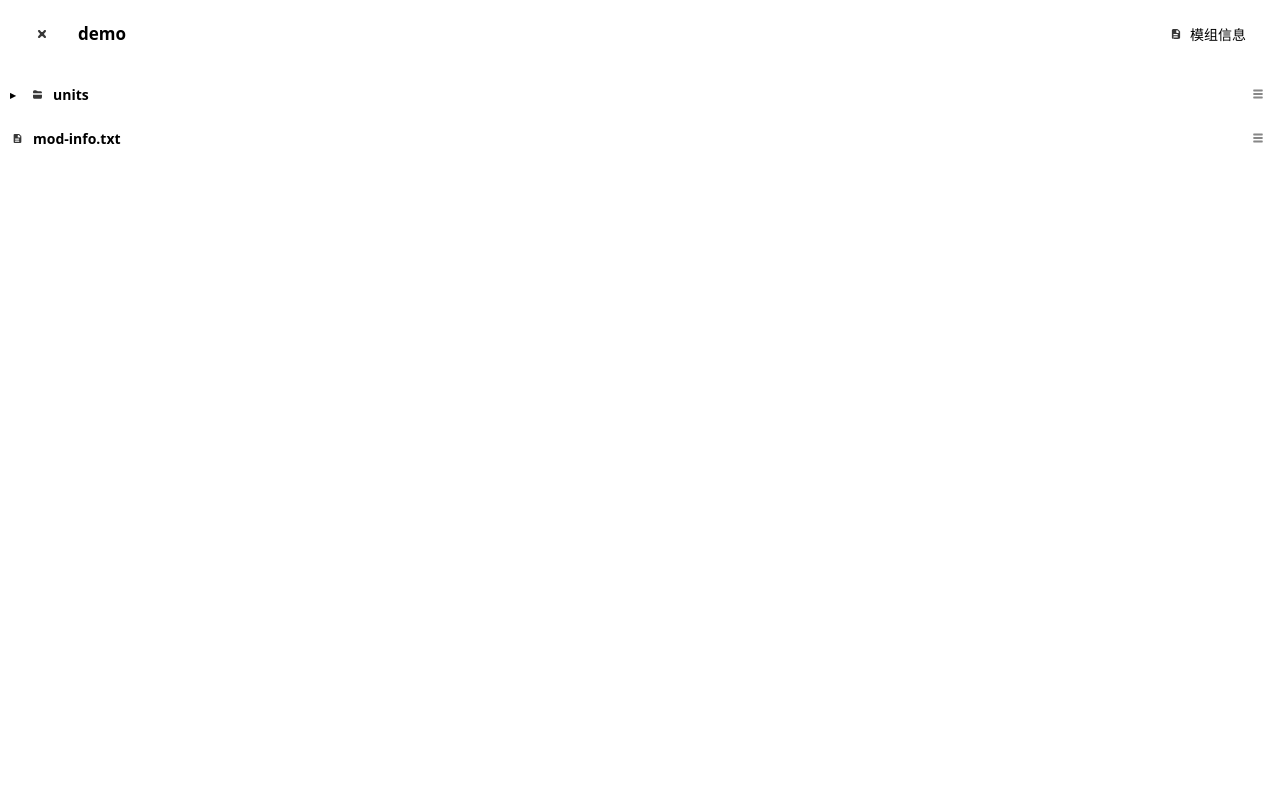
编辑器页：保存失败与冲突 › 保存失败时「保存并继续」不会退出编辑器
The image size is (1280, 800).
Click the text "units" at (71, 94), box x1=53 y1=84 x2=89 y2=104
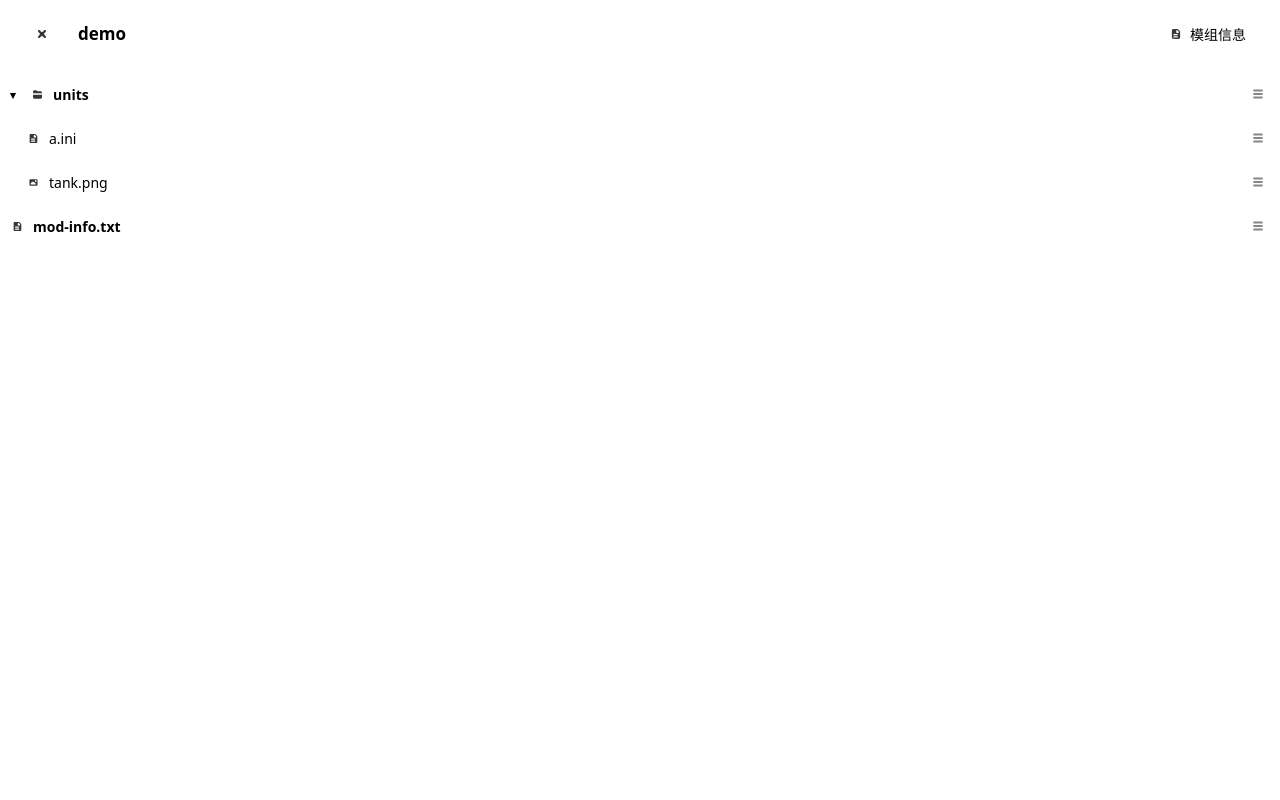
Click the button "a.ini" at (34, 138), box x1=0 y1=118 x2=1236 y2=158
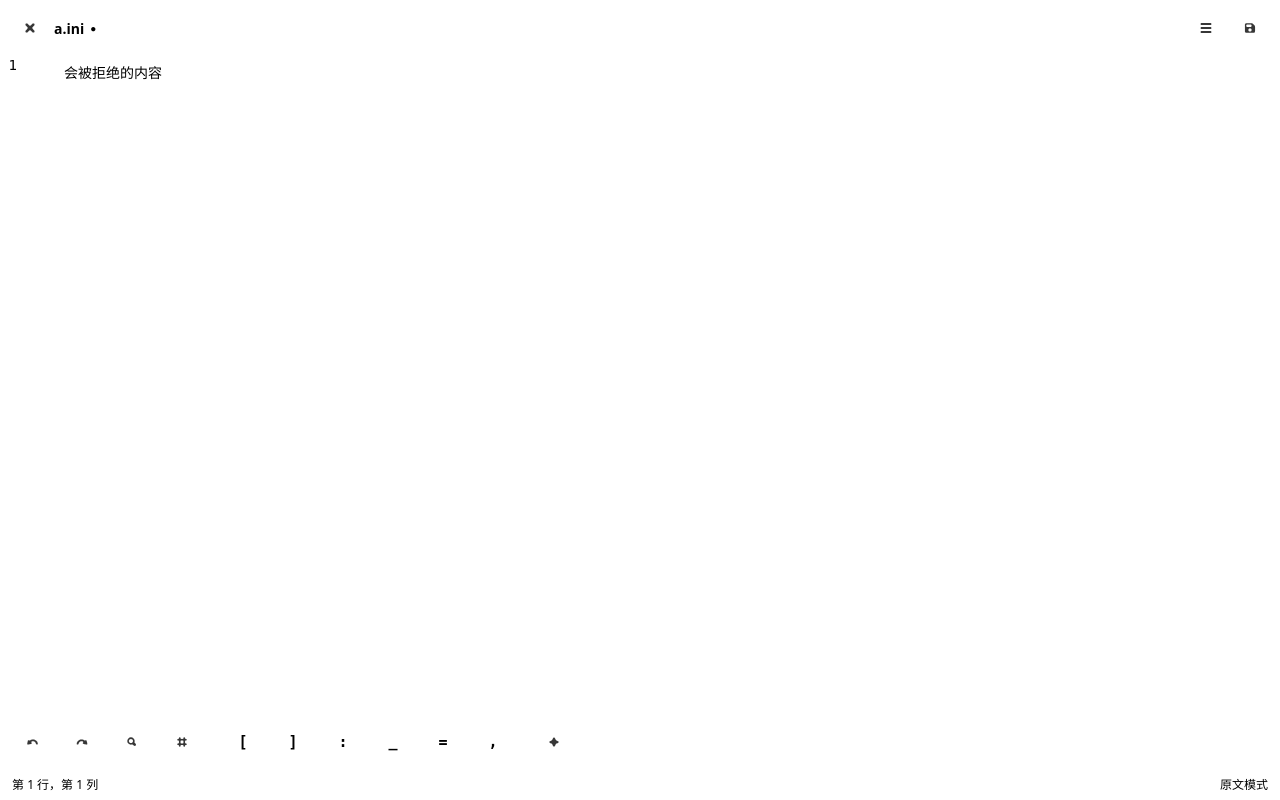
Click the button named "返回" at (30, 28), box x1=10 y1=8 x2=50 y2=48
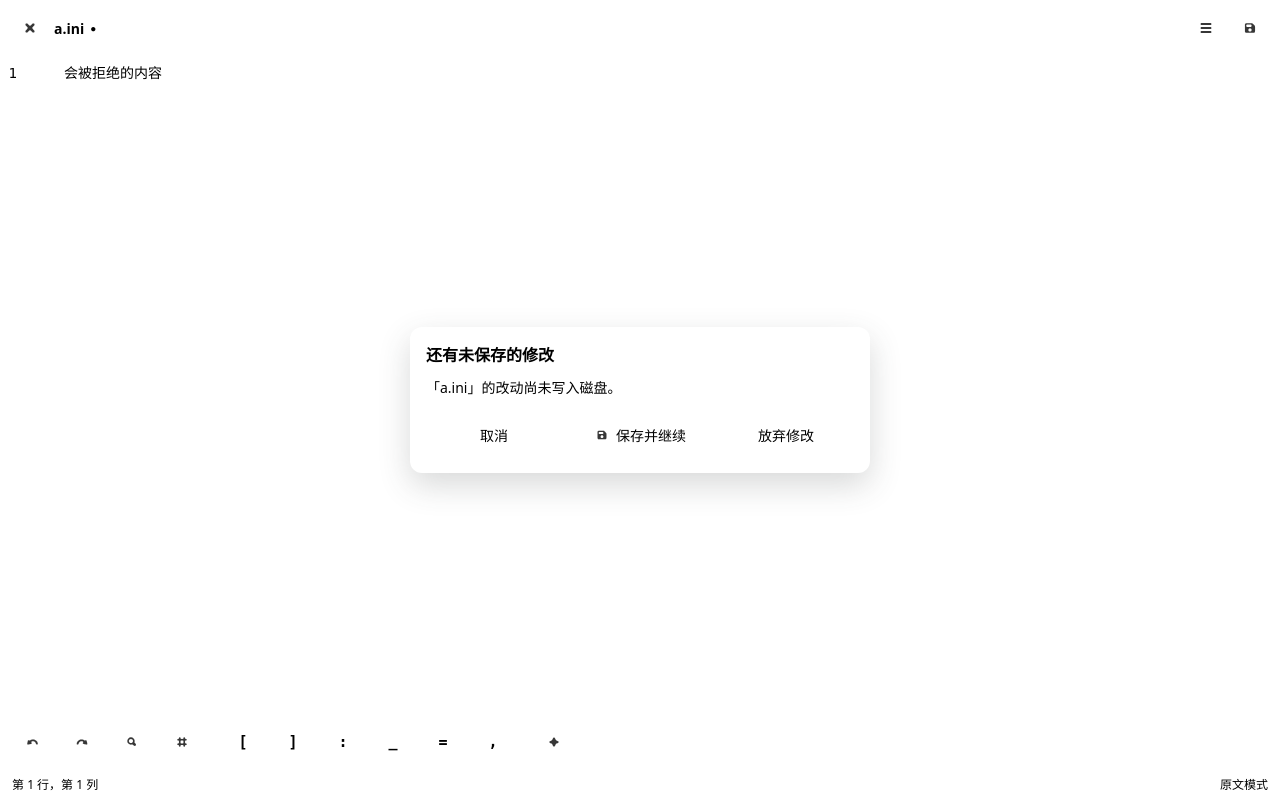
Click the button "保存并继续" at (640, 435), box x1=572 y1=413 x2=708 y2=457
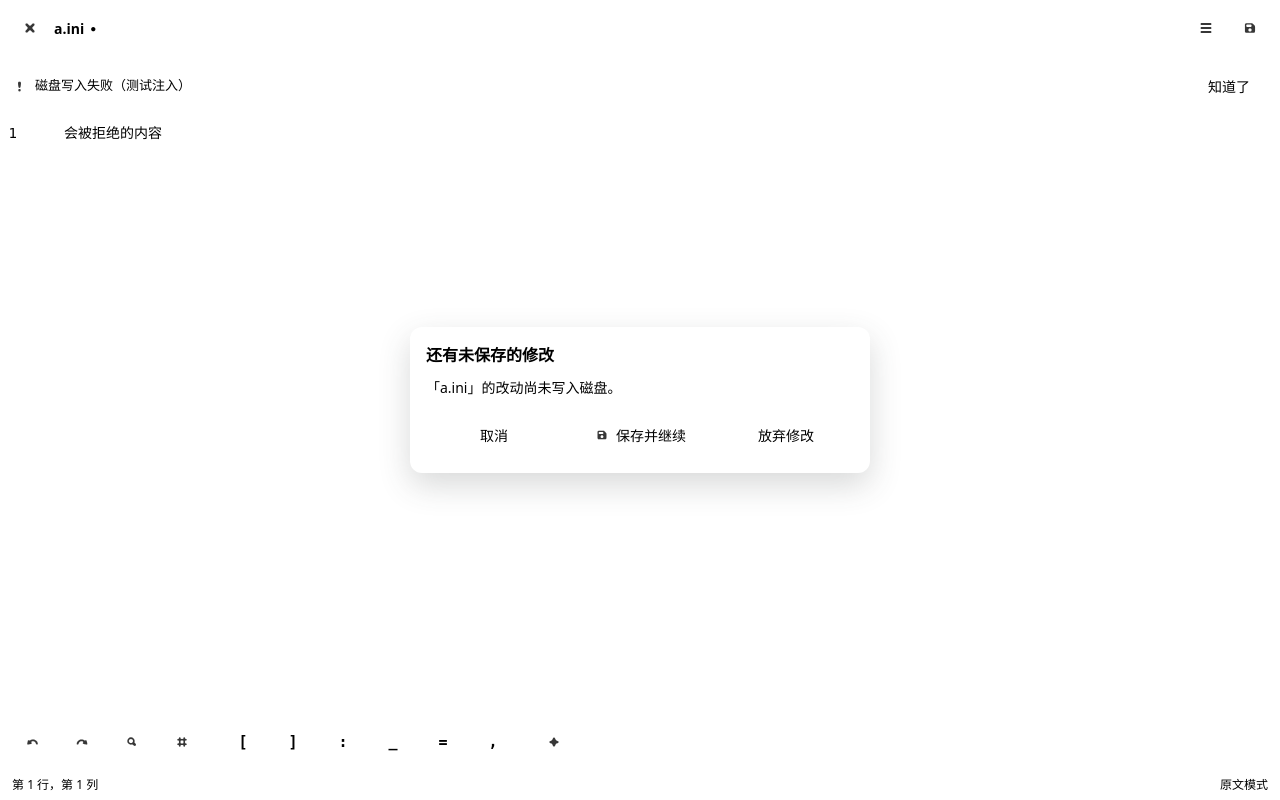
Now the text "磁盘写入失败（测试注入）" is shown, box x1=35 y1=76 x2=191 y2=94
